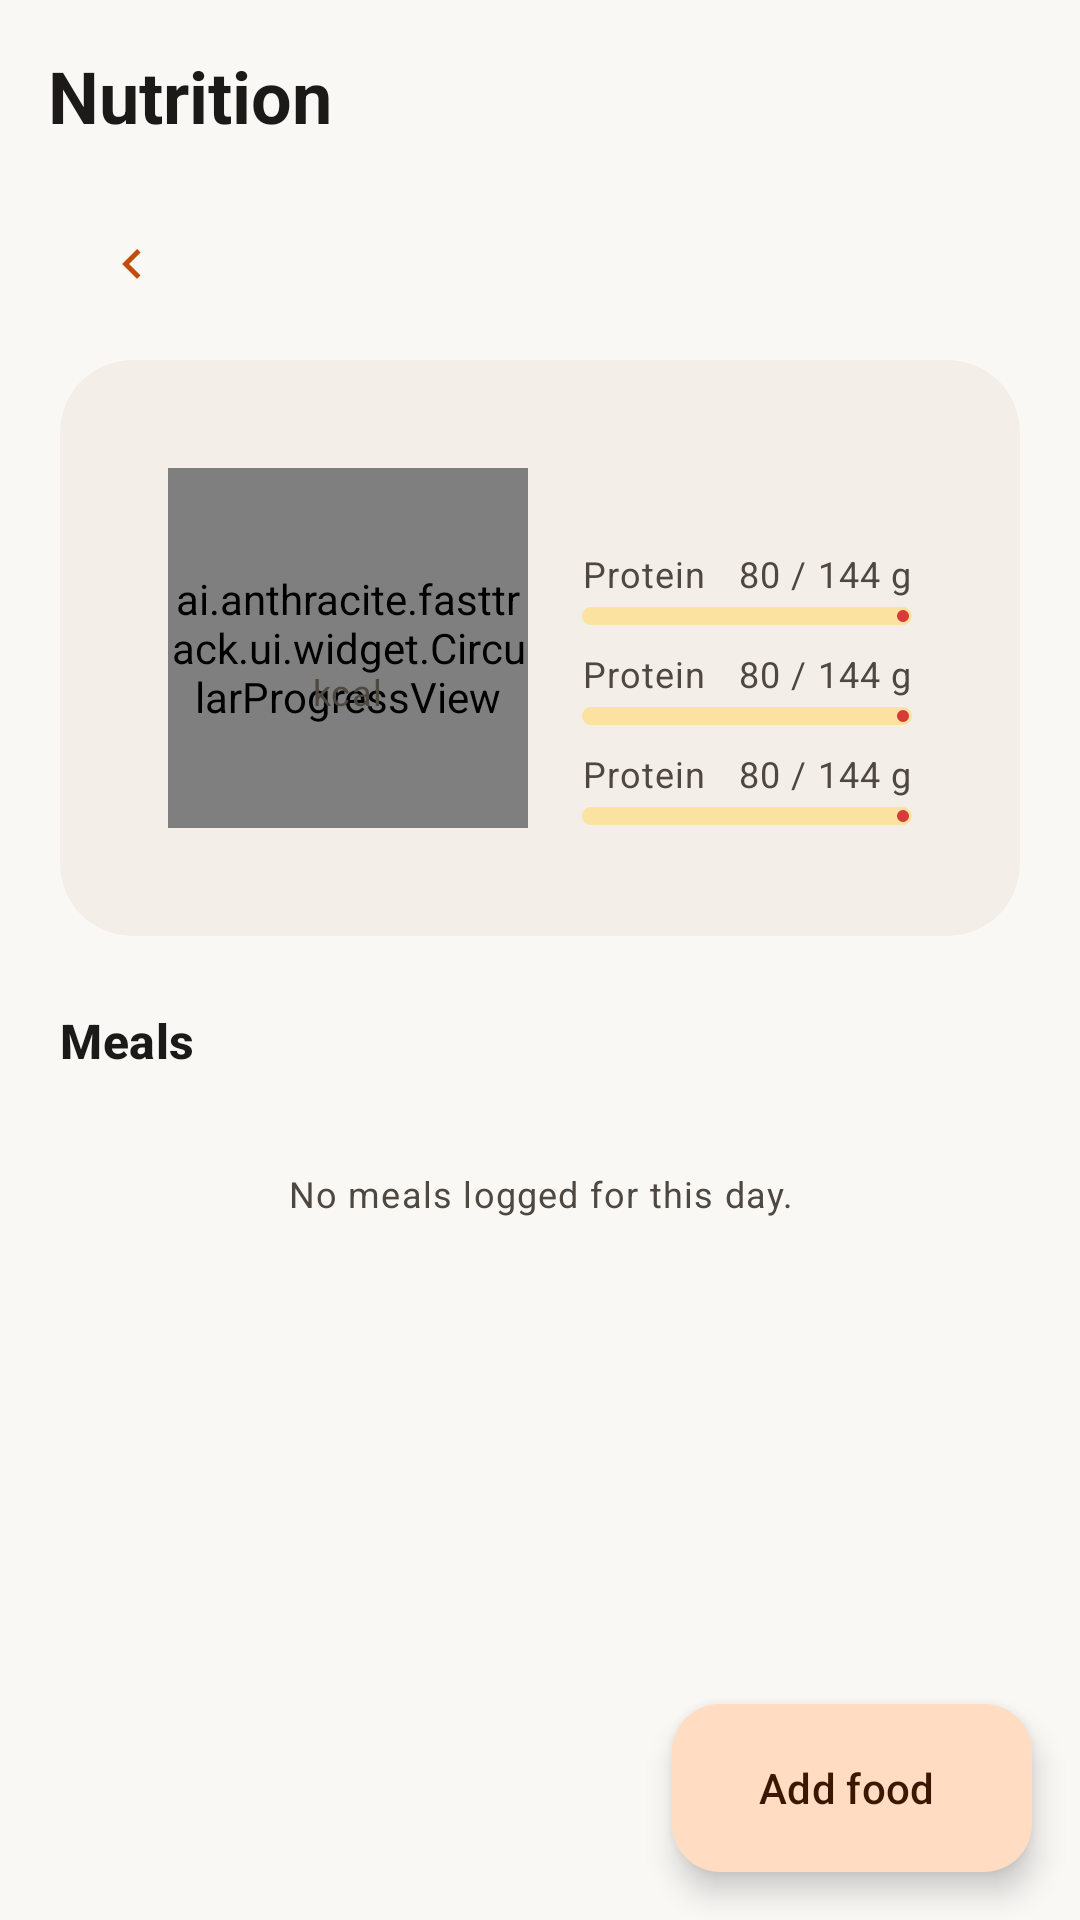

Where to tap for icons on this 1080 x 1920 app screen, as point (x, y):
Previous day: point (131, 264)
